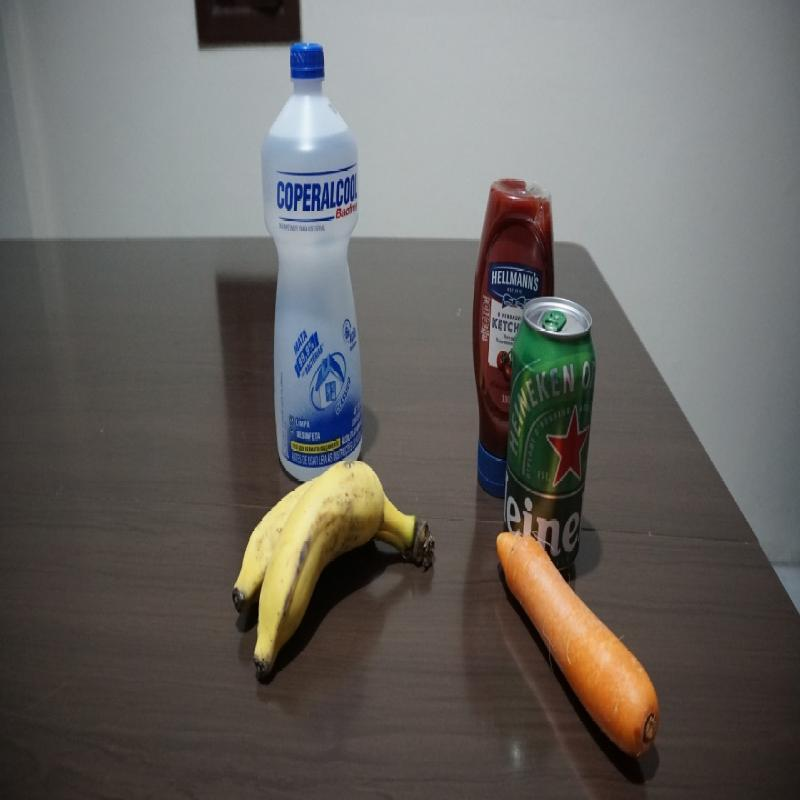Alcohol Bottle: (261, 40, 366, 454)
Banana: (229, 459, 439, 702)
Beer can: (511, 302, 596, 526)
Carrot: (492, 532, 665, 766)
Ketchup: (466, 171, 511, 503)
